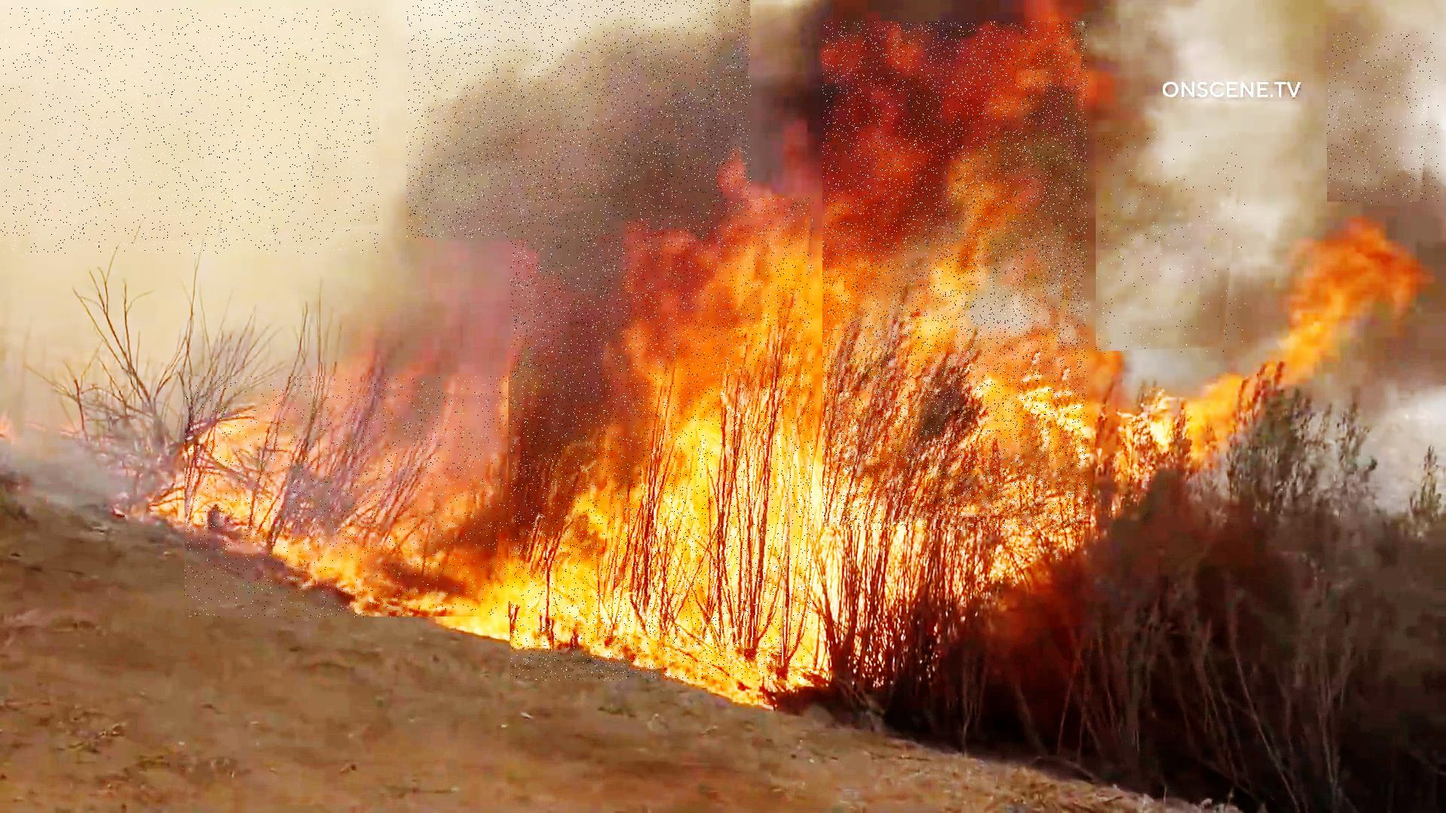fire: (510, 198, 814, 681), (823, 21, 1088, 530), (185, 377, 516, 619)
smoke: (0, 8, 379, 254), (407, 0, 751, 238), (1096, 132, 1246, 354), (1328, 32, 1439, 204)
